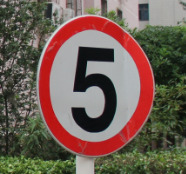speed_limit_5: (37, 14, 155, 157)
